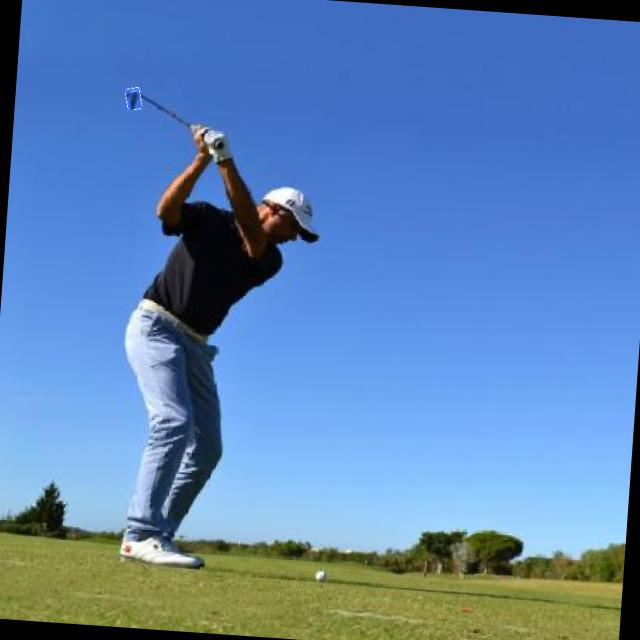club head: (124, 86, 142, 110)
